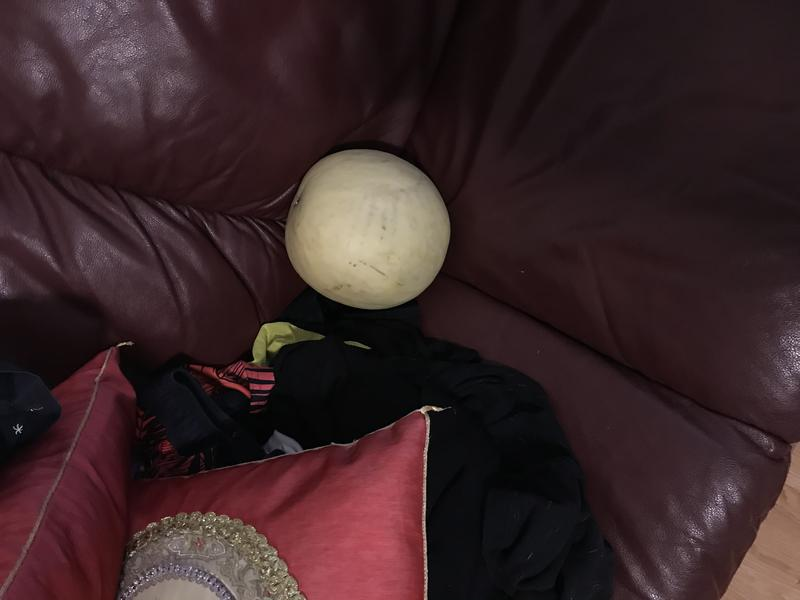honeydew: (276, 137, 460, 318)
